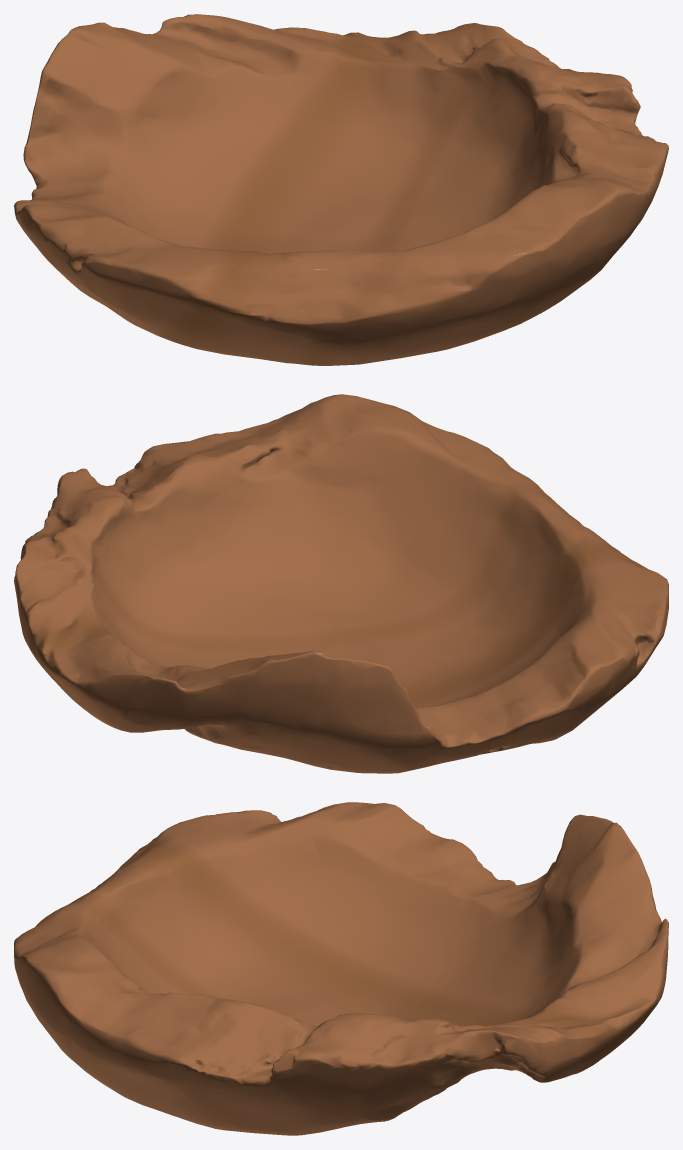
Rendered from wooden_bowl_01_2k.fbx.
3 views of the same model, one above another, from view 1: azimuth 30°, elevation 25°; view 2: azimuth 150°, elevation 25°; view 3: azimuth 270°, elevation 25° (orthographic). The views are drawn at different scales.
Visible parts, largest first — view 1: wooden_bowl_01; view 2: wooden_bowl_01; view 3: wooden_bowl_01.
Boxes of the visible parts, left/top/right/bottom form: wooden_bowl_01: left=14, top=14, right=668, bottom=365; wooden_bowl_01: left=14, top=394, right=668, bottom=773; wooden_bowl_01: left=14, top=802, right=668, bottom=1135.
Bounding box in the file's own units: 31.31 × 9.37 × 30.91.
1 material, 1 textured.
